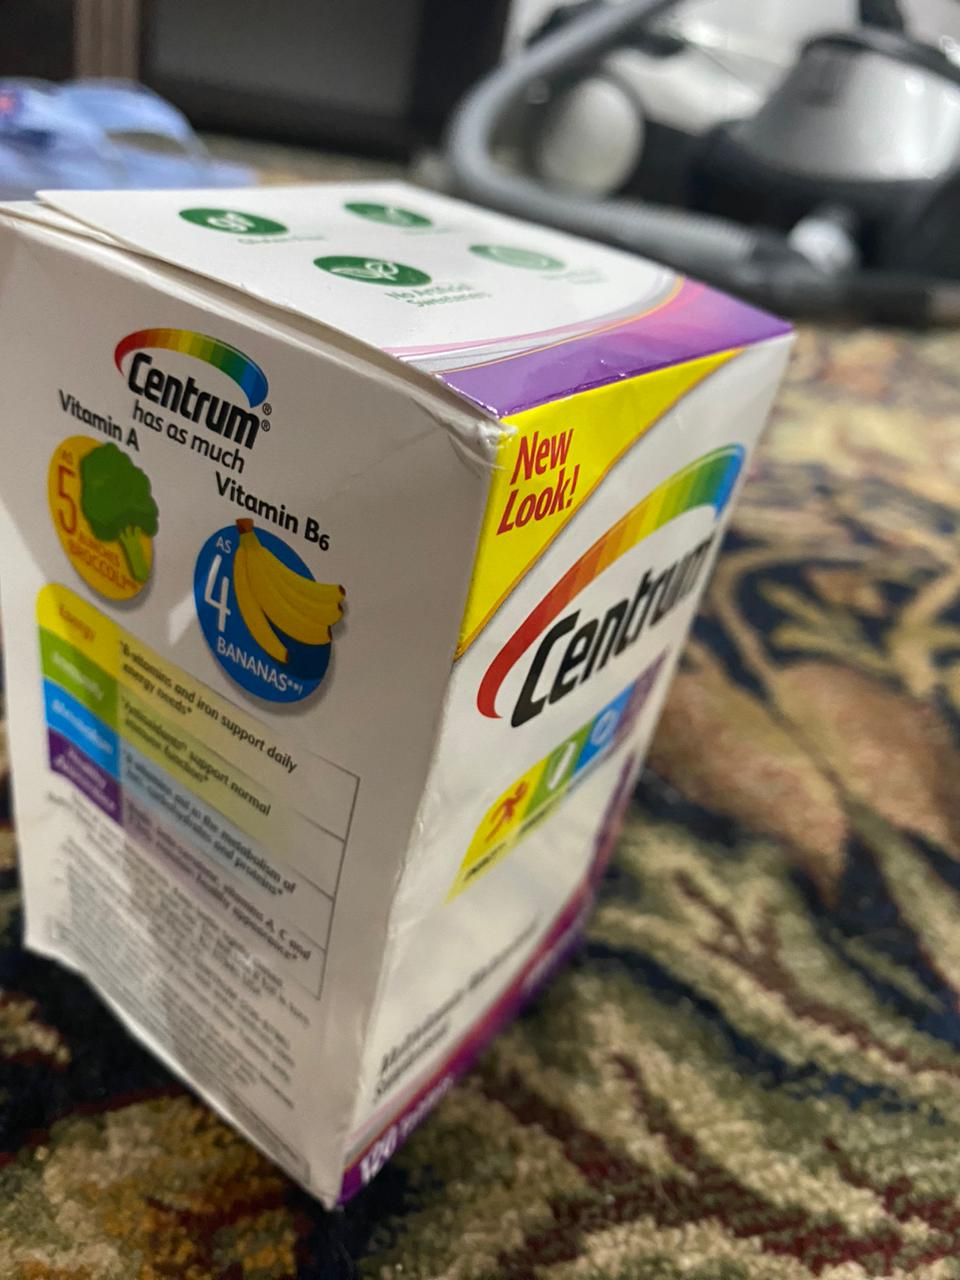Centrum: (1, 174, 806, 1219)
